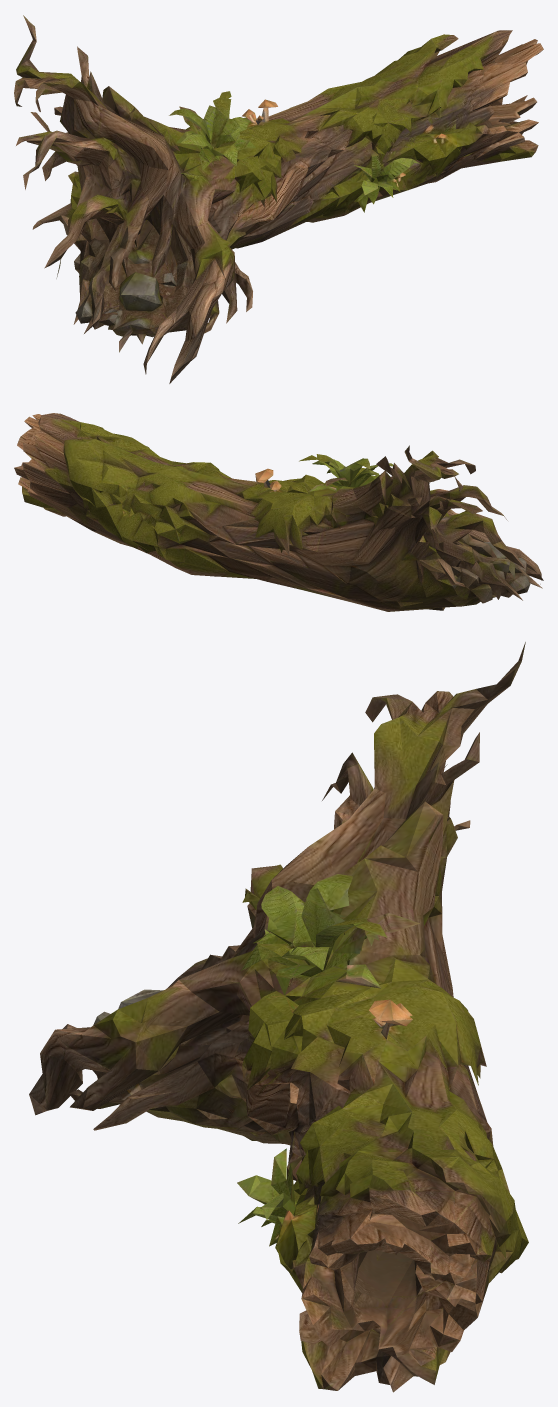
File: VEG-005.glb
3 views of the same model, one above another, from view 1: azimuth 30°, elevation 25°; view 2: azimuth 150°, elevation 25°; view 3: azimuth 270°, elevation 25° (orthographic). The views are drawn at different scales.
Parts seen in each view (by area): view 1: VEG-005; view 2: VEG-005; view 3: VEG-005.
Part boxes in pixels (<box>): VEG-005: <box>14,15,543,383</box>; VEG-005: <box>14,413,543,611</box>; VEG-005: <box>29,642,528,1392</box>.
Size of the model in its own units: 5.4 by 2.6 by 2.51.
1 material, 1 textured.
